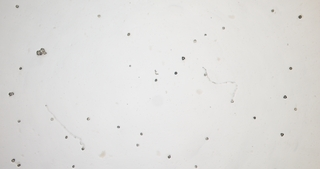germinated: (71, 132, 86, 152), (227, 85, 238, 104)
nongerminated: (14, 63, 29, 75), (275, 127, 288, 140), (6, 87, 17, 102), (203, 132, 215, 145), (124, 59, 137, 71), (169, 67, 183, 78), (290, 105, 302, 117), (285, 62, 298, 73), (248, 109, 259, 122), (218, 22, 231, 33), (132, 139, 143, 152), (121, 28, 134, 39), (280, 90, 291, 102), (135, 128, 148, 138), (151, 76, 162, 87), (114, 122, 126, 132), (82, 113, 94, 123), (47, 114, 59, 124), (11, 0, 23, 10), (13, 115, 25, 125), (39, 47, 51, 57), (13, 160, 27, 168), (201, 28, 212, 38), (190, 36, 201, 46), (164, 152, 175, 162), (92, 11, 104, 20), (179, 53, 189, 63), (34, 49, 44, 59), (66, 161, 78, 169), (269, 6, 278, 16), (62, 133, 71, 142), (8, 155, 18, 163), (296, 12, 304, 20)
